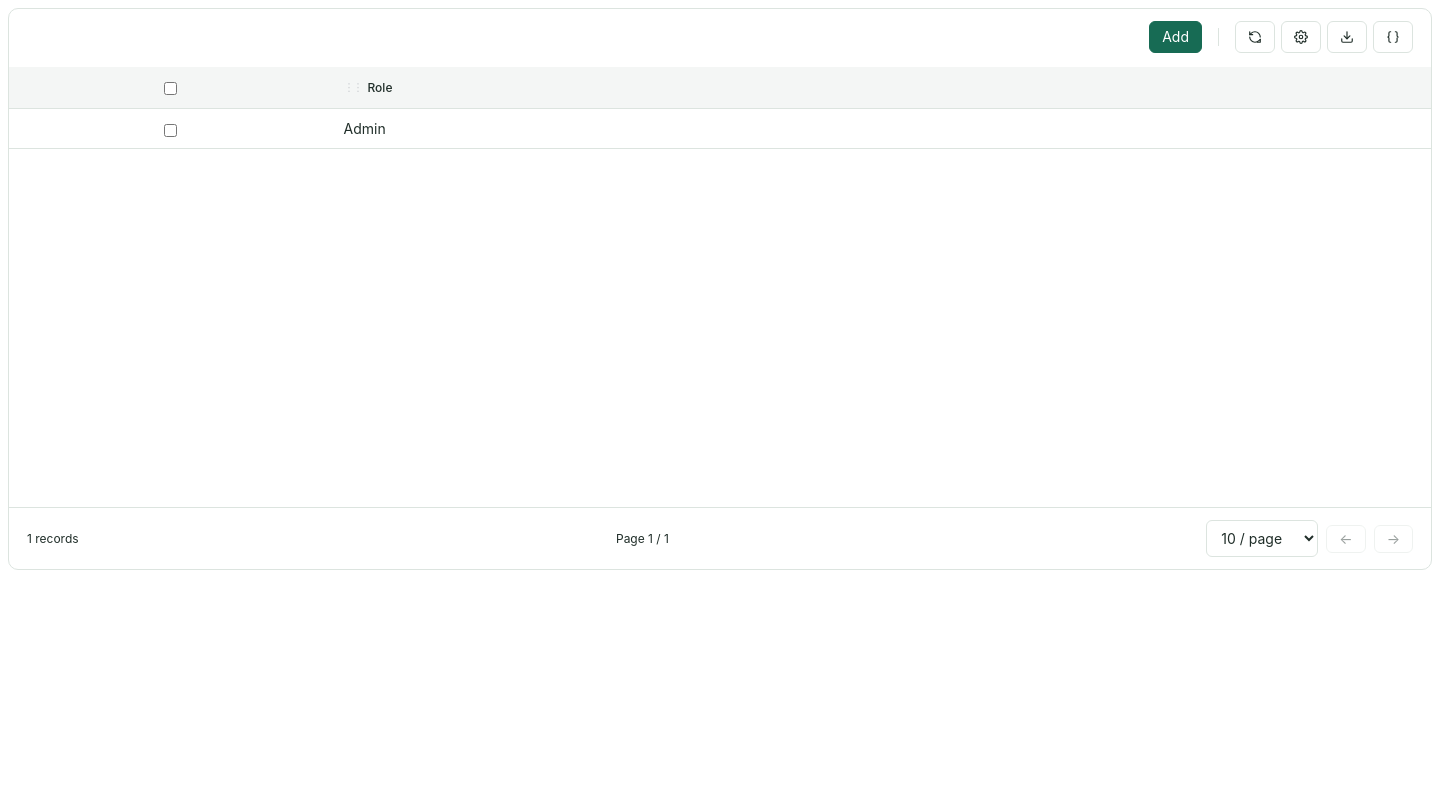
Test: deriveFormFields retains column options when custom formField overrides type
Click the button with test id "rac-add" at (1176,37), box [1149,21,1202,53]
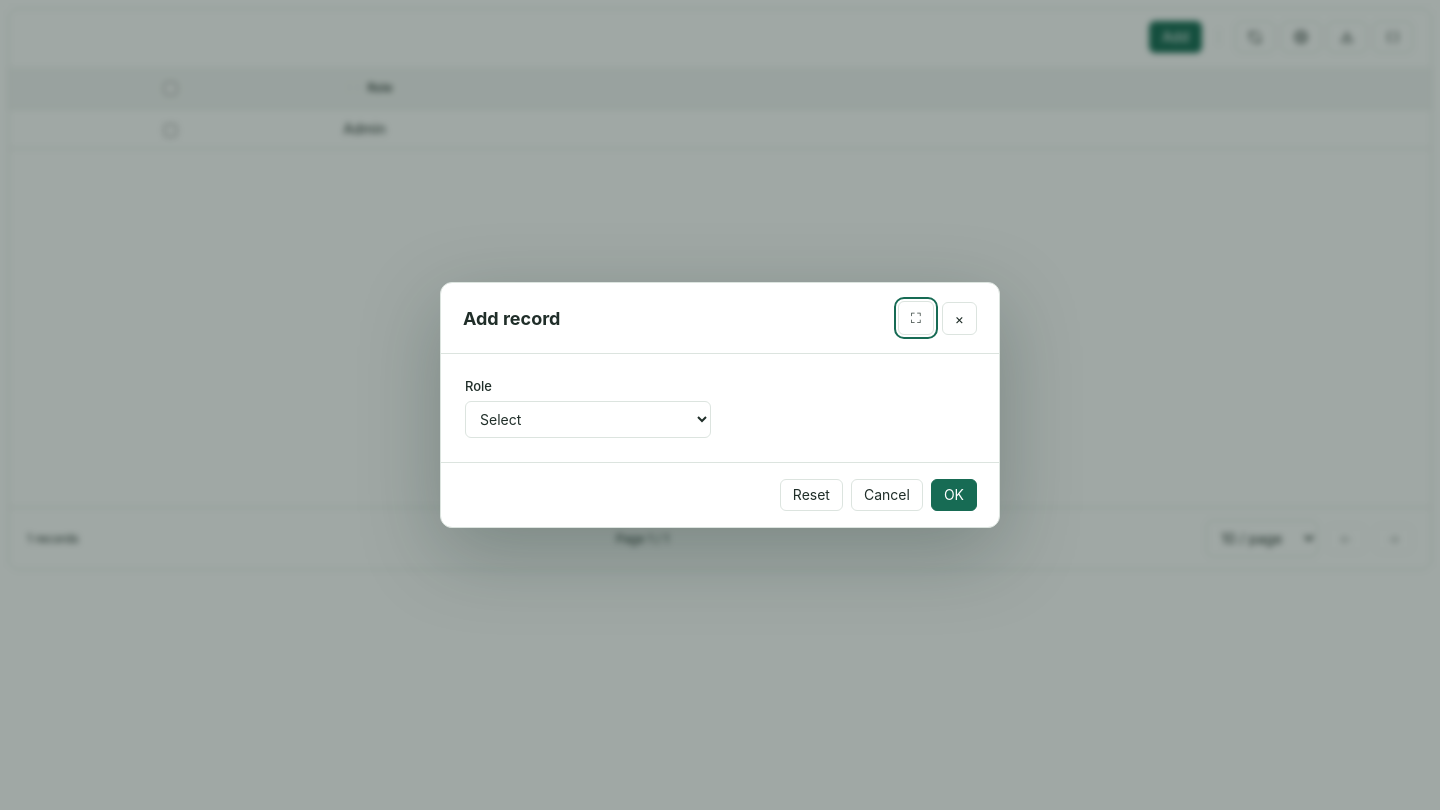
Now the dialog is shown, box [440,282,1000,528]
Now the dropdown labelled "Role" is shown, box [465,401,711,438]
